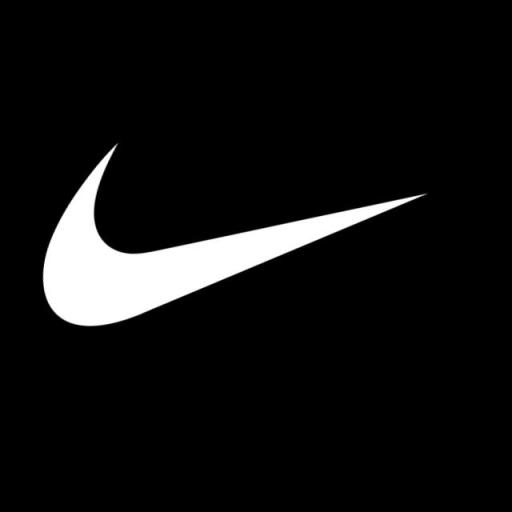Nike: (31, 130, 438, 382)
